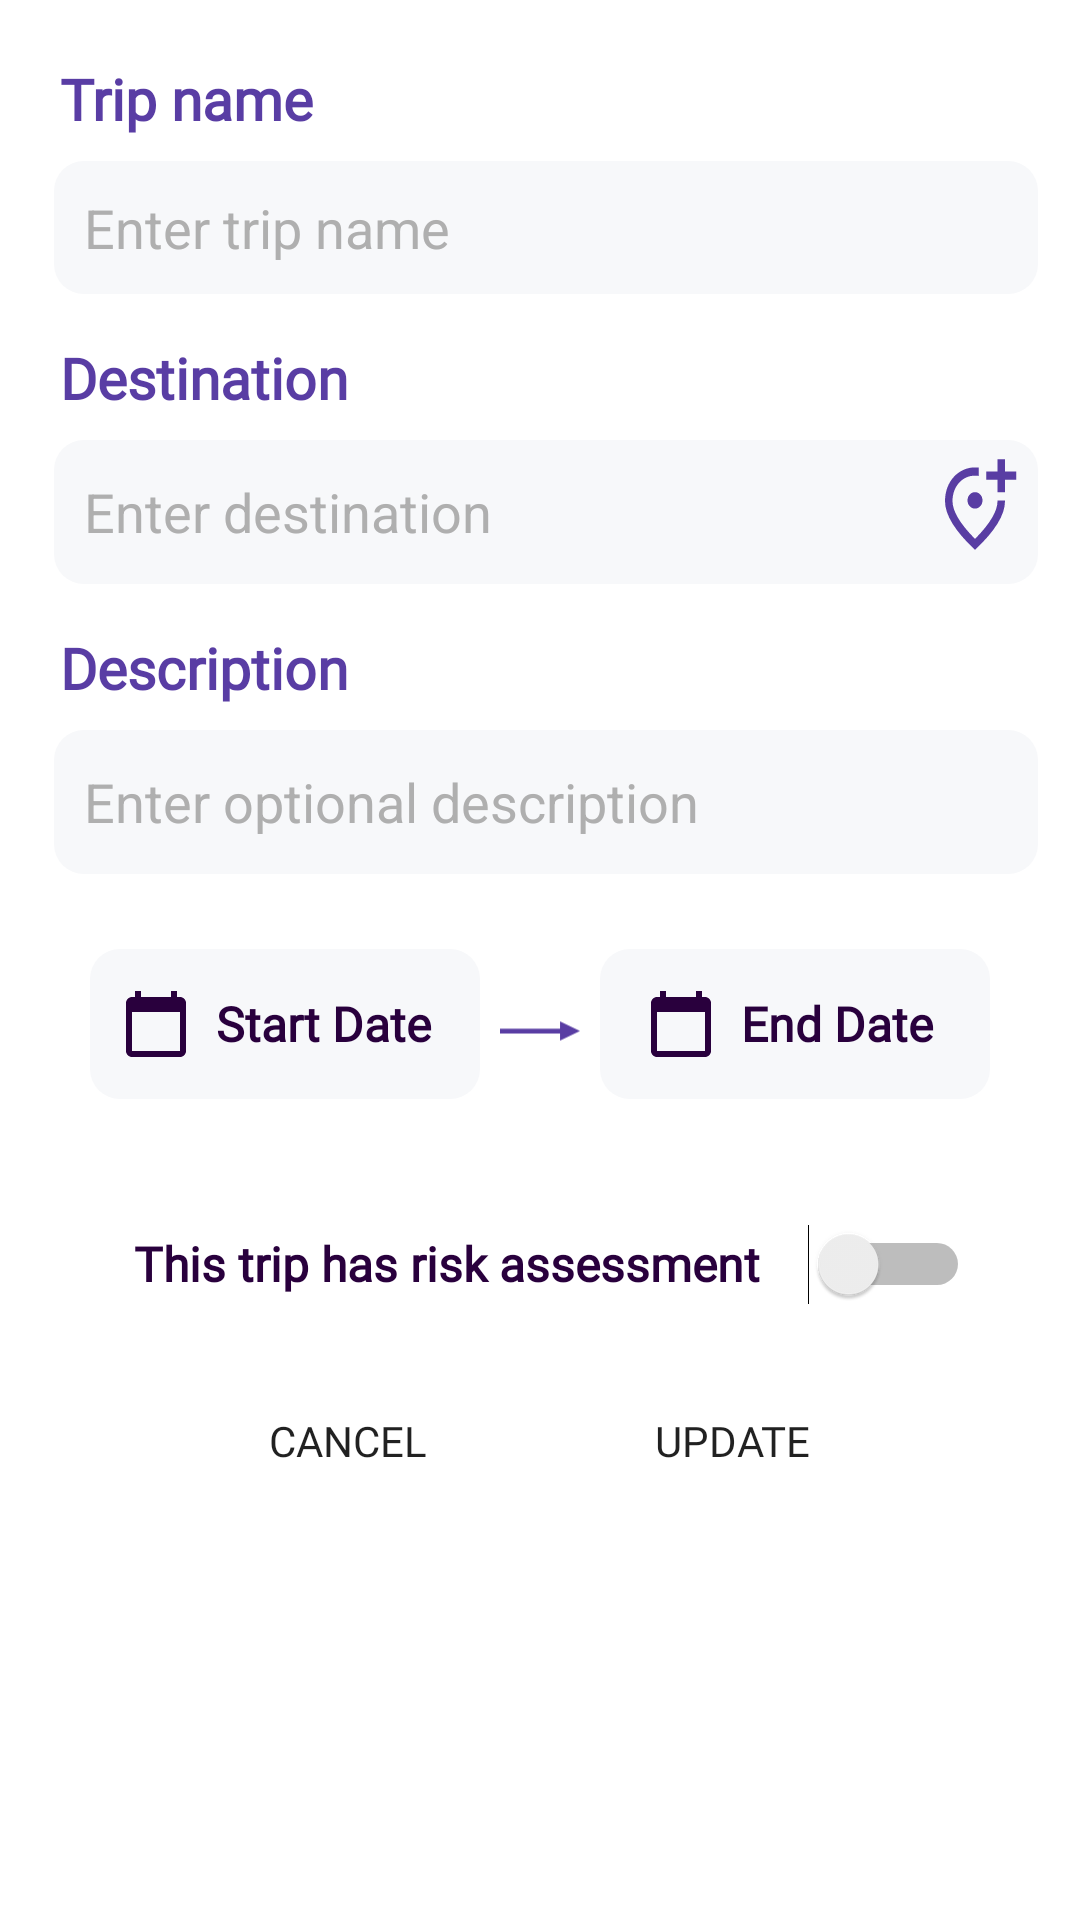

Icon click points for this 1080w x 1920h phone screenshot, format (x,y):
arrow next: (540,1031)
calendar today: (156,1024), (681,1024)
location: (981,504)
